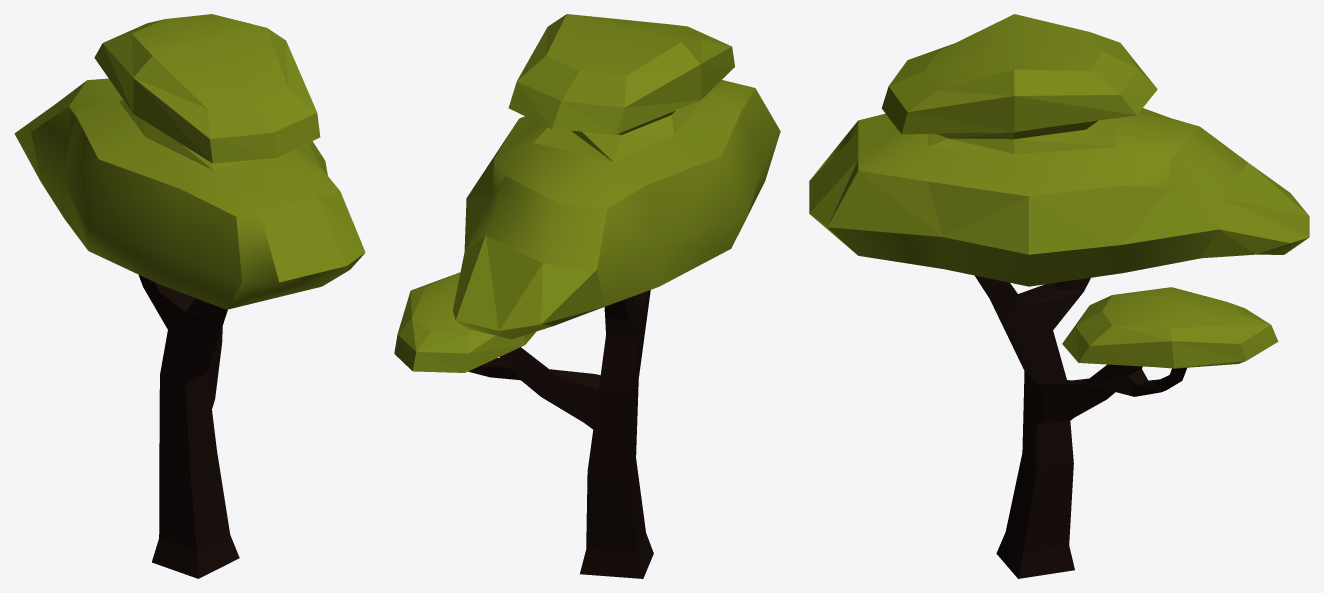
The model's file is tree_4.FBX.
The picture shows the model from 3 angles, left to right: view 1: azimuth 30°, elevation 25°; view 2: azimuth 150°, elevation 25°; view 3: azimuth 270°, elevation 25°; orthographic projection.
Parts seen in each view (by area): view 1: Box1401, tree_004, Box1400; view 2: Box1401, tree_004, Box1400; view 3: Box1401, tree_004, Box1400.
Part boxes in pixels (box(x1,y1,x2,y2)): Box1401: box(14, 78, 365, 309); tree_004: box(94, 14, 320, 163); Box1400: box(138, 275, 239, 578); Box1401: box(453, 80, 780, 339); tree_004: box(394, 14, 734, 372); Box1400: box(468, 290, 653, 578); Box1401: box(809, 108, 1309, 286); tree_004: box(881, 14, 1278, 368); Box1400: box(974, 275, 1186, 578).
Size of the model in its own units: 9.95 by 19.16 by 16.66.
